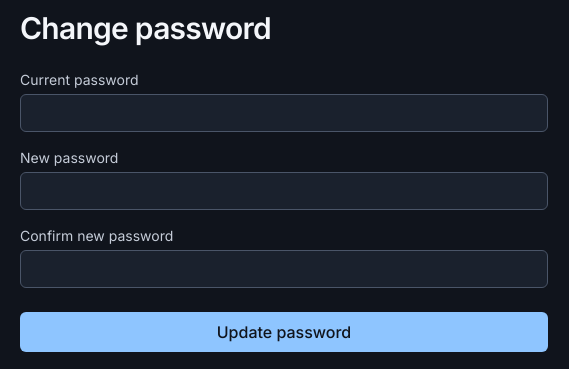
Test: ChangePasswordForm › shows success on 204
Type "old-password-1" into the password field labelled "Current password".
click(284, 113); type("old-password-1")  # box [20,94,548,132]
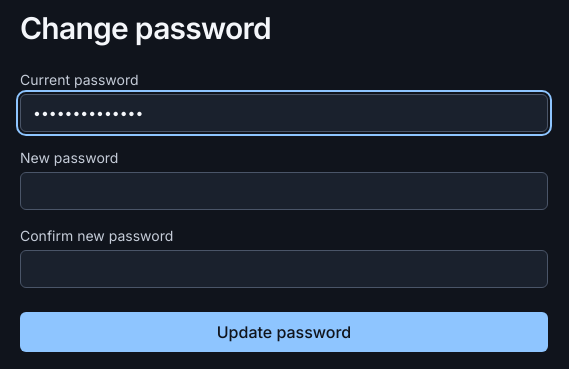
Type "correct-horse-battery" into the password field labelled "New password".
click(284, 191); type("correct-horse-battery")  # box [20,172,548,210]
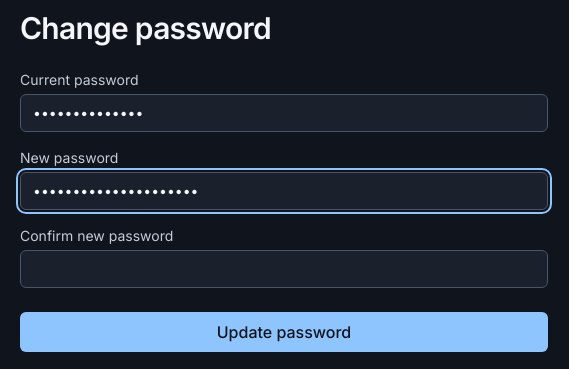
Type "correct-horse-battery" into the password field labelled "Confirm new password".
click(284, 269); type("correct-horse-battery")  # box [20,250,548,288]
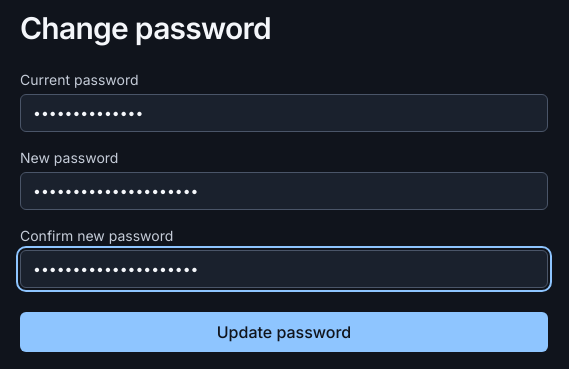
Click the button "Update password".
click(284, 332)  # box [20,312,548,352]
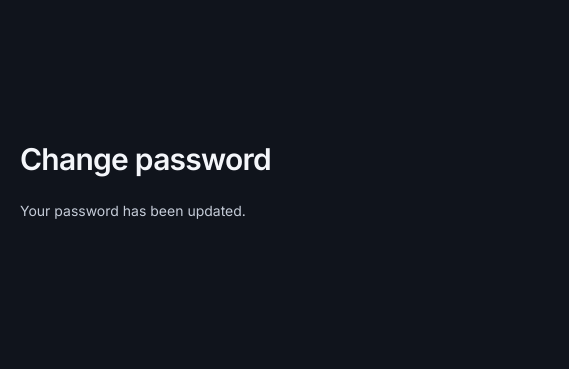
Expected: the message reads "Your password has been updated.", [20,202,246,219]
